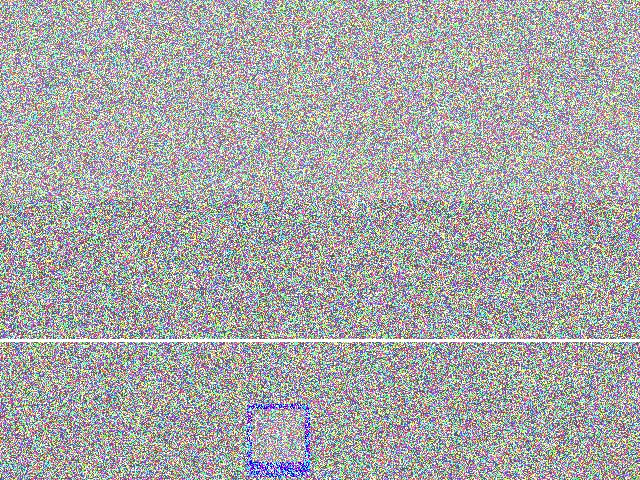bus: (433, 146, 577, 253)
car: (196, 393, 305, 471)
truck: (427, 273, 511, 364)
